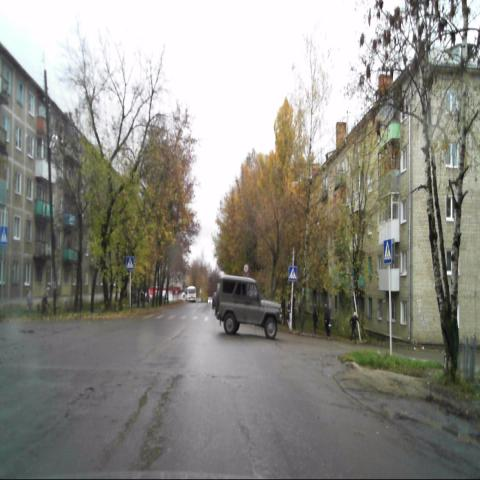5_19_1: (383, 238, 392, 265), (288, 264, 298, 281), (0, 225, 8, 244), (126, 256, 134, 270)
